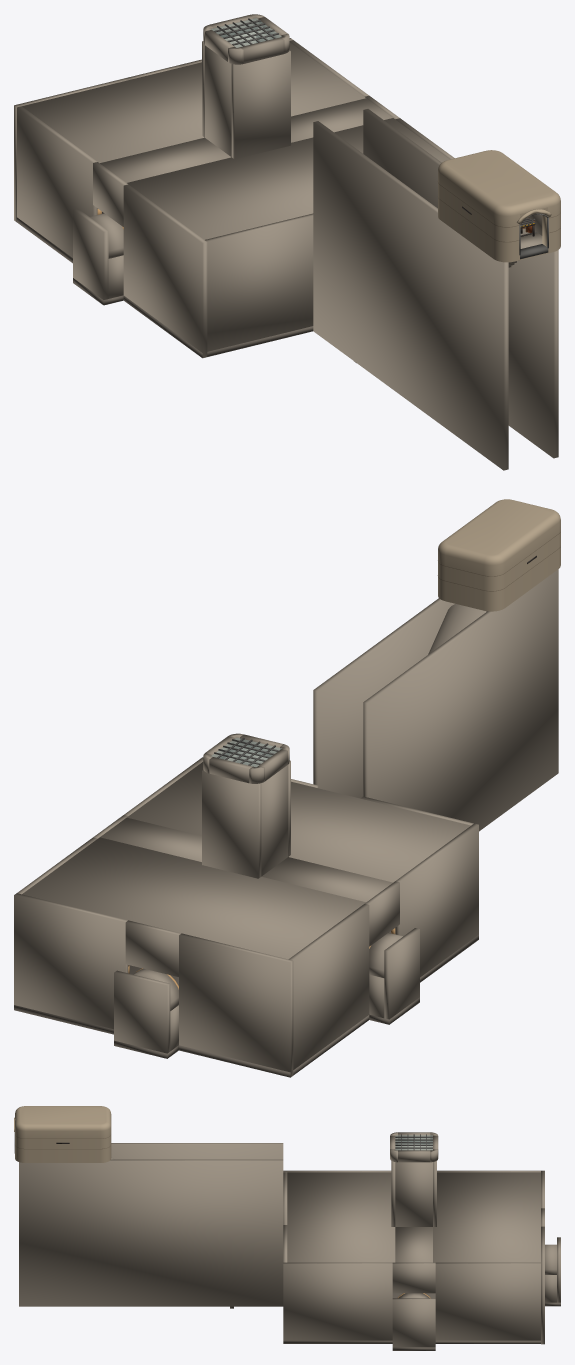
File: bunker.glb
3 views of the same model, one above another, from view 1: azimuth 30°, elevation 25°; view 2: azimuth 150°, elevation 25°; view 3: azimuth 270°, elevation 25° (orthographic). The views are drawn at different scales.
Parts seen in each view (by area): view 1: bunker, hut; view 2: bunker, hut; view 3: bunker, hut.
Part boxes in pixels (<box>): bunker: <box>14,32,558,470</box>; hut: <box>203,14,560,262</box>; bunker: <box>14,569,558,1077</box>; hut: <box>203,499,560,783</box>; bunker: <box>19,1143,560,1350</box>; hut: <box>14,1106,438,1162</box>.
Size of the model in its own units: 19 by 15.35 by 40.98.
